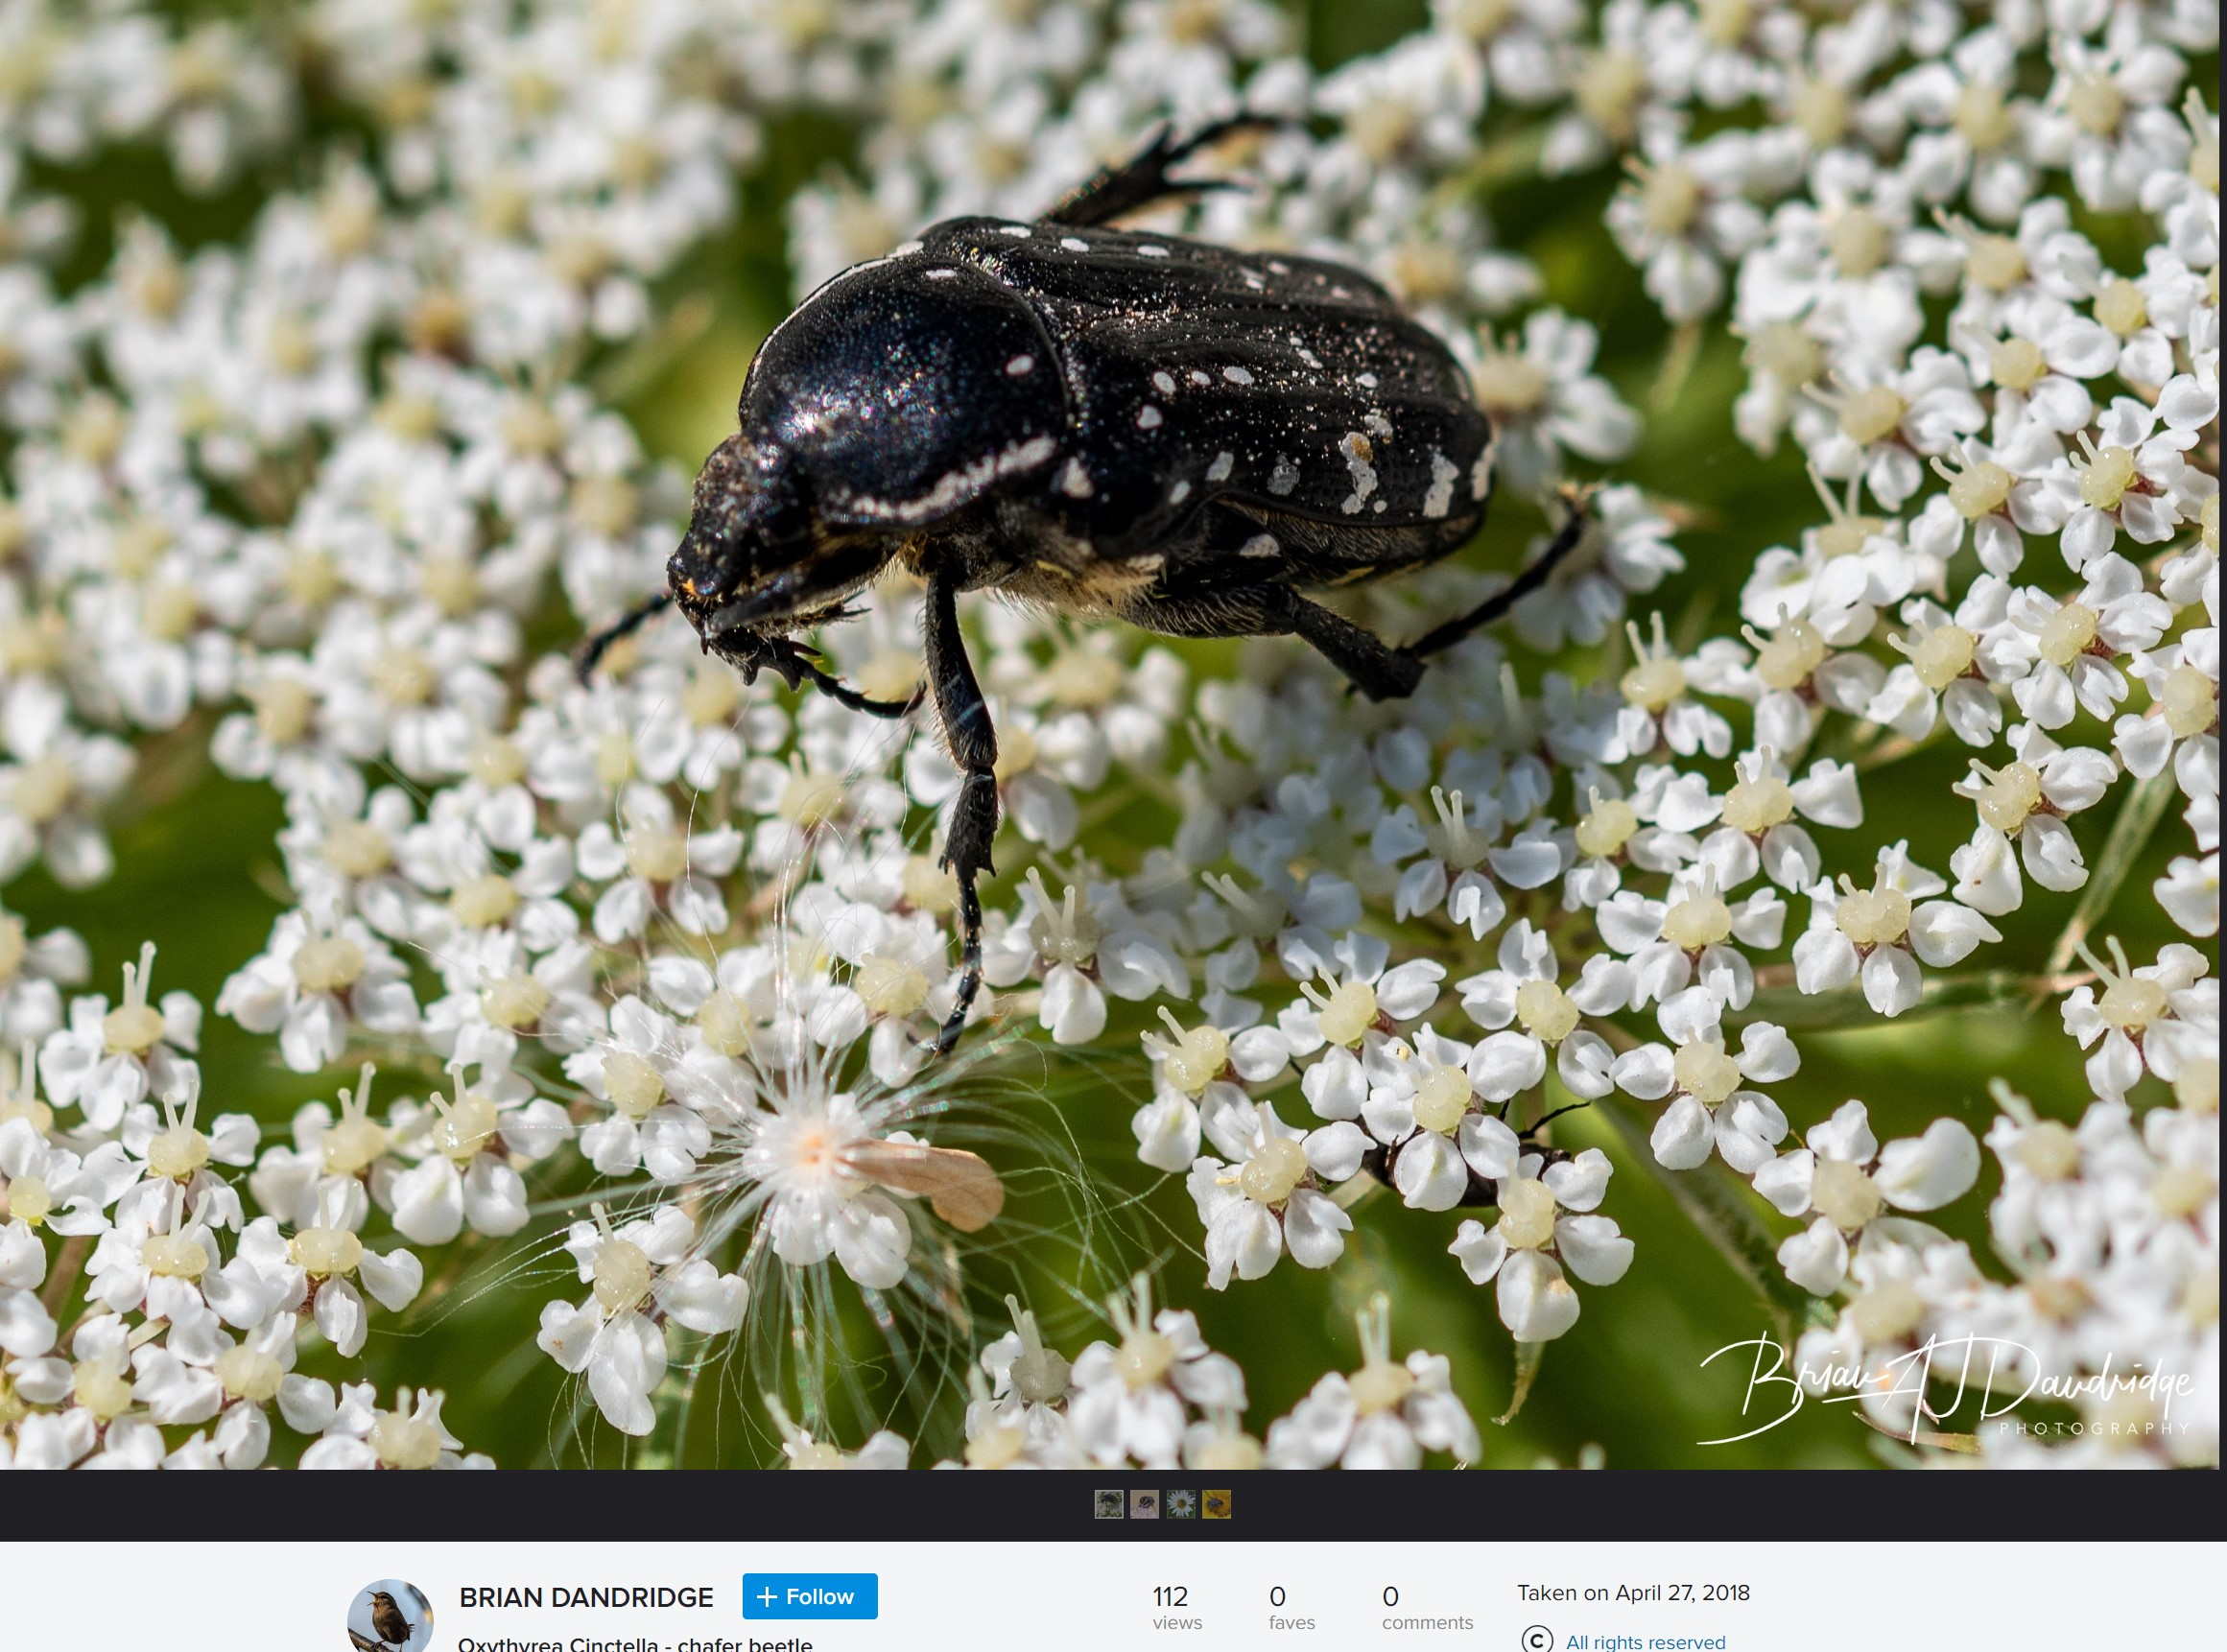Oxythyrea_cinctella: (637, 193, 1656, 1024)
